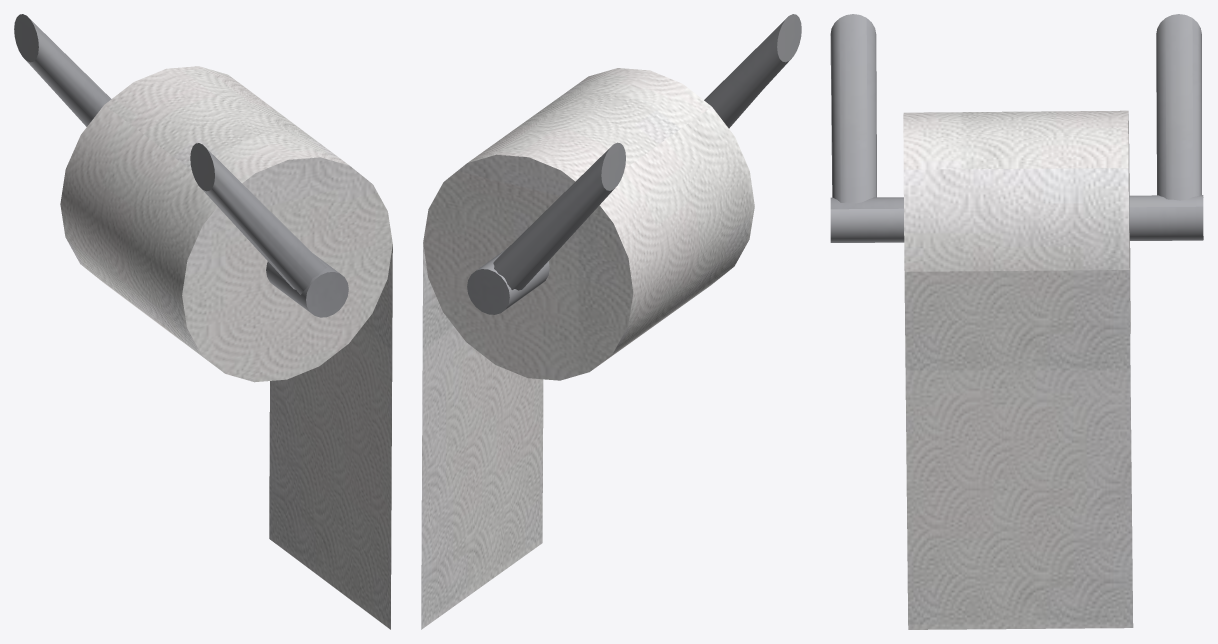
Rendered from papelHigienicoTextura.fbx.
3 views of the same model, side by side, from view 1: azimuth 30°, elevation 25°; view 2: azimuth 150°, elevation 25°; view 3: azimuth 270°, elevation 25° (orthographic). The views are drawn at different scales.
Parts seen in each view (by area): view 1: polySurface1; view 2: polySurface1; view 3: polySurface1.
Part boxes in pixels (left/top/right/bottom): polySurface1: left=14, top=14, right=392, bottom=629; polySurface1: left=421, top=14, right=801, bottom=629; polySurface1: left=830, top=14, right=1203, bottom=629.
Size of the model in its own units: 2.07 by 5.08 by 3.32.
Materials: 2 (2 with a texture image).
